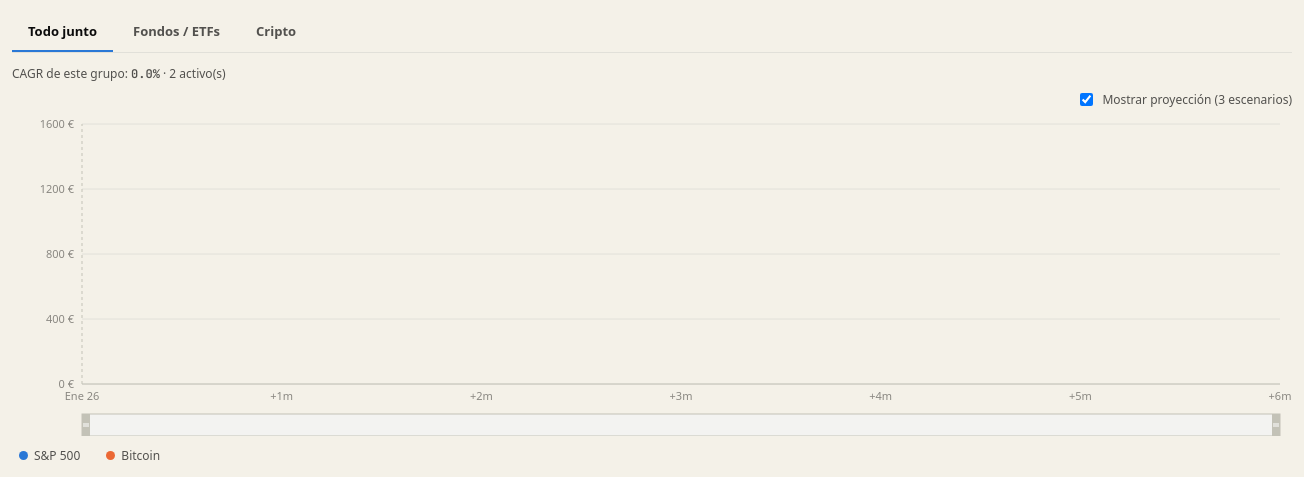
Scenario: VistaPorTipo — filtra activos por grupo de categoría › el grupo "Cripto" excluye activos de otras categorías
Expected: the text "CAGR de este grupo: 0.0% · 2 activo(s)" is shown, [12, 65, 226, 82]
Click the tab "Cripto". click: click(276, 32)
box: [240, 12, 312, 52]
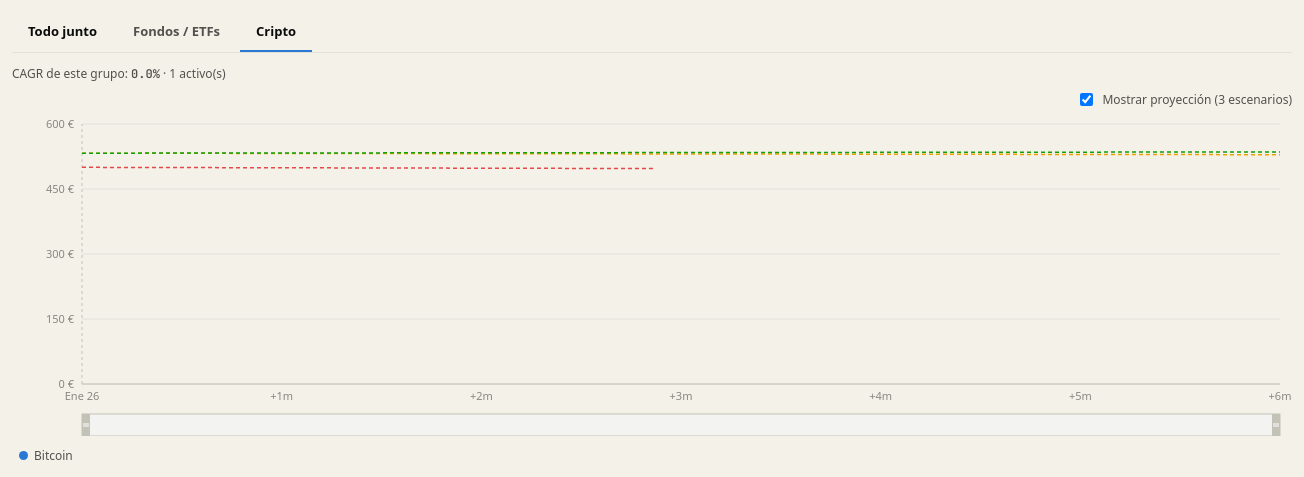
Result: the text "CAGR de este grupo: 0.0% · 1 activo(s)" is shown at [12, 65, 226, 82]
